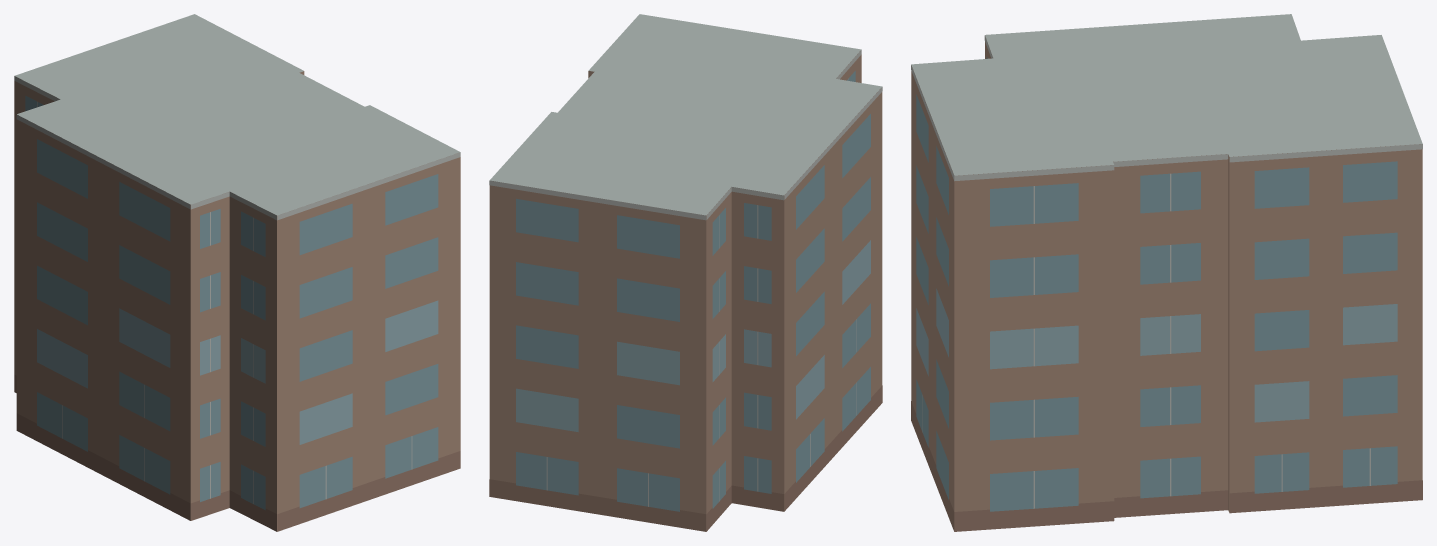
File: survey-upis-32965003.glb
The picture shows the model from 3 angles, left to right: view 1: azimuth 30°, elevation 25°; view 2: azimuth 150°, elevation 25°; view 3: azimuth 270°, elevation 25°; orthographic projection. The views are drawn at different scales.
Visible parts, largest first — view 1: survey-upis-32965003.tmp; view 2: survey-upis-32965003.tmp; view 3: survey-upis-32965003.tmp.
Part boxes in pixels (x1,y1,x2,y2): survey-upis-32965003.tmp: (14,14,460,531); survey-upis-32965003.tmp: (489,14,882,531); survey-upis-32965003.tmp: (911,14,1422,531).
Size of the model in its own units: 15.49 by 15.9 by 20.71.
